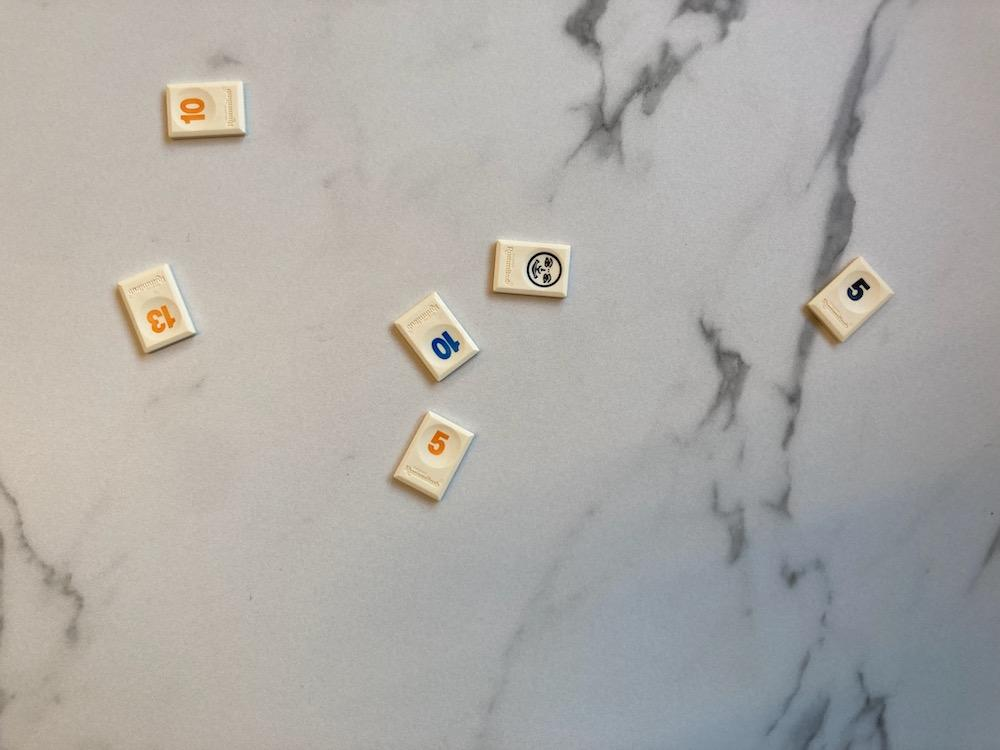black_5: (807, 256, 893, 342)
blue_10: (395, 293, 479, 381)
joker: (492, 240, 570, 296)
orange_10: (169, 80, 246, 137)
orange_13: (119, 264, 195, 352)
orange_5: (396, 412, 475, 500)
